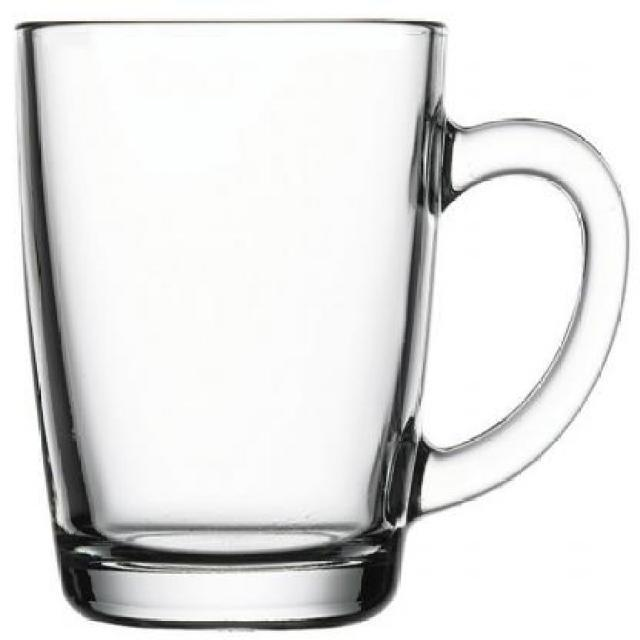taza: (10, 2, 632, 628)
